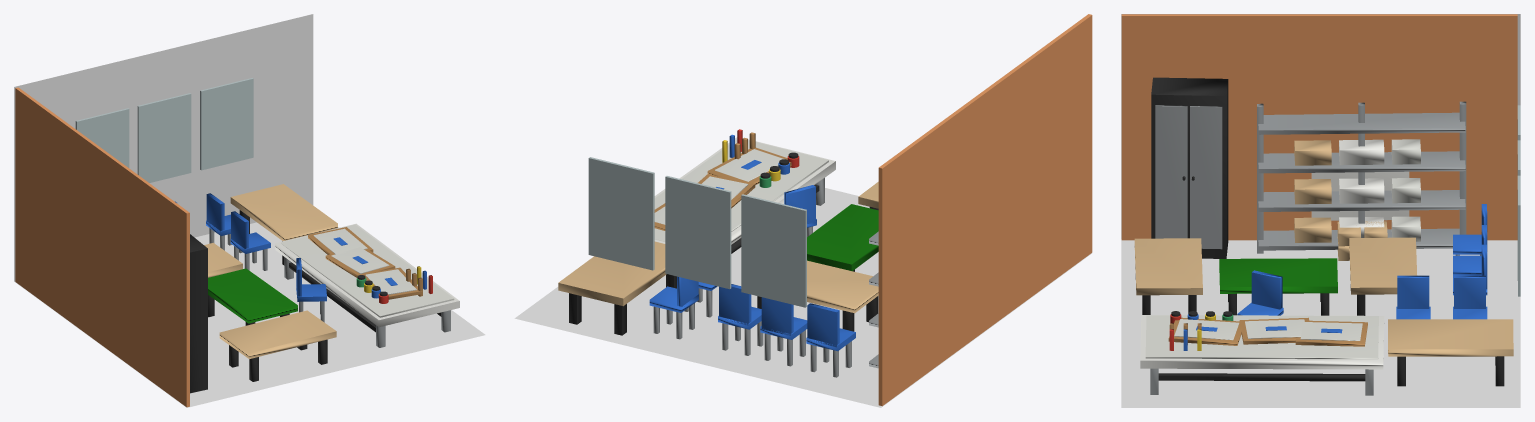
Rendered from lab.sablon.glb.
3 renders of one model, left to right at view 1: azimuth 30°, elevation 25°; view 2: azimuth 150°, elevation 25°; view 3: azimuth 270°, elevation 25°, orthographic. The views are drawn at different scales.
Parts seen in each view (by area): view 1: Plane, Kubus, SABLON_Kaki_Meja.002, Cube.001, Cube.002, SABLON_Kaki_Meja_Kecil.004, SABLON_Kaki_Meja_Kecil.002, SABLON_Kaki_Meja_Kecil.003, SABLON_Lemari, Cube.019, SABLON_Kursi_Kaki.001, SABLON_Kursi_Kaki.003 (+2 smaller); view 2: Kubus, Plane, SABLON_Kaki_Meja.002, Cube.002, Cube.001, Cube.019, SABLON_Kaki_Meja_Kecil.002, SABLON_Kaki_Meja_Kecil.003, SABLON_Kaki_Meja_Kecil.001, SABLON_Kursi_Kaki.006, SABLON_Kursi_Kaki.005, SABLON_Kursi_Kaki.004 (+2 smaller); view 3: Kubus, Plane, SABLON_Kaki_Meja.002, SABLON_Lemari, SABLON_Kaki_Meja_Kecil.002, SABLON_Kaki_Meja_Kecil.004, SABLON_Rak_Shelf.003, SABLON_Kaki_Meja_Kecil.003, SABLON_Kaki_Meja_Kecil.001, SABLON_Rak_Shelf.002, SABLON_Rak_Shelf.001, SABLON_Rak_Shelf (+20 smaller).
Part boxes in pixels (box(x1,y1,x2,y2)): Plane: box(14, 14, 485, 407); Kubus: box(15, 87, 189, 407); SABLON_Kaki_Meja.002: box(275, 223, 459, 347); Cube.001: box(137, 93, 191, 182); Cube.002: box(200, 78, 253, 170); SABLON_Kaki_Meja_Kecil.004: box(219, 310, 336, 381); SABLON_Kaki_Meja_Kecil.002: box(230, 184, 337, 265); SABLON_Kaki_Meja_Kecil.003: box(208, 268, 297, 325); SABLON_Lemari: box(190, 234, 207, 393); Cube.019: box(75, 108, 129, 167); SABLON_Kursi_Kaki.001: box(230, 211, 270, 270); SABLON_Kursi_Kaki.003: box(206, 193, 242, 253); Kubus: box(878, 14, 1092, 406); Plane: box(514, 188, 1091, 407); SABLON_Kaki_Meja.002: box(654, 129, 835, 253); Cube.002: box(588, 157, 654, 270); Cube.001: box(665, 176, 731, 289); Cube.019: box(741, 194, 806, 307); SABLON_Kaki_Meja_Kecil.002: box(558, 241, 676, 335); SABLON_Kaki_Meja_Kecil.003: box(807, 204, 878, 271); SABLON_Kaki_Meja_Kecil.001: box(757, 260, 878, 331); SABLON_Kursi_Kaki.006: box(806, 303, 855, 377); SABLON_Kursi_Kaki.005: box(760, 297, 807, 366); SABLON_Kursi_Kaki.004: box(718, 284, 763, 355); Kubus: box(1121, 14, 1517, 240); Plane: box(1121, 14, 1520, 407); SABLON_Kaki_Meja.002: box(1140, 311, 1384, 395); SABLON_Lemari: box(1151, 77, 1228, 258); SABLON_Kaki_Meja_Kecil.002: box(1388, 319, 1513, 386); SABLON_Kaki_Meja_Kecil.004: box(1134, 238, 1202, 314); SABLON_Rak_Shelf.003: box(1258, 112, 1465, 134); SABLON_Kaki_Meja_Kecil.003: box(1219, 258, 1337, 315); SABLON_Kaki_Meja_Kecil.001: box(1349, 237, 1417, 315); SABLON_Rak_Shelf.002: box(1258, 151, 1465, 173); SABLON_Rak_Shelf.001: box(1258, 190, 1465, 211); SABLON_Rak_Shelf: box(1258, 228, 1459, 250).
Size of the model in its own units: 3.96 by 2.46 by 3.96.
